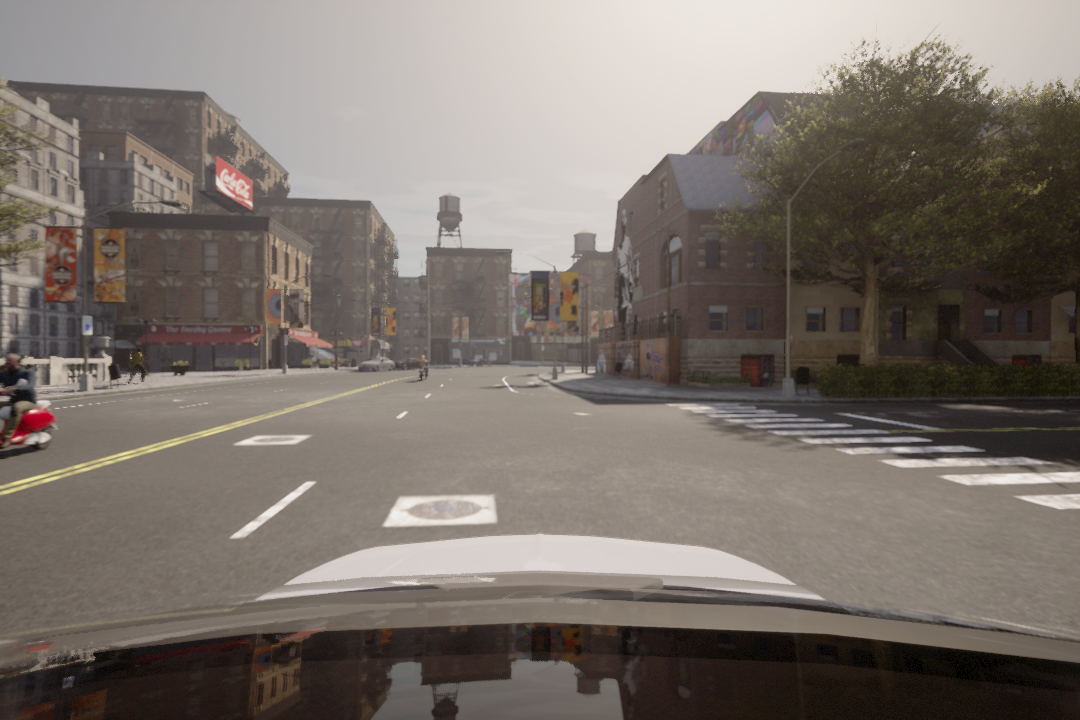walkside: (667, 398, 1080, 543)
